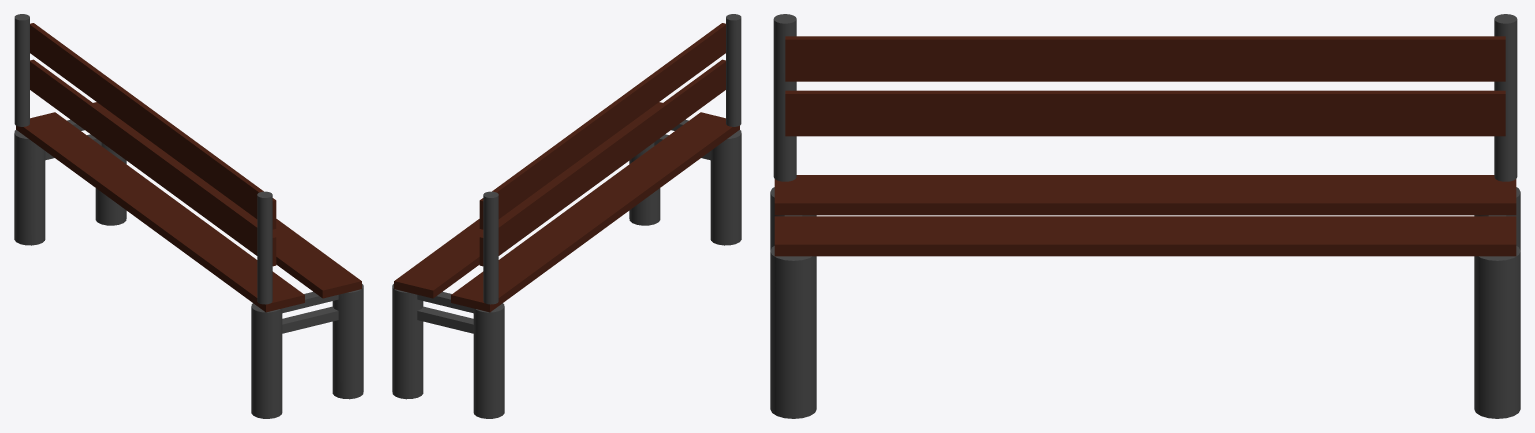
File: bench.glb
3 renders of one model, left to right at view 1: azimuth 30°, elevation 25°; view 2: azimuth 150°, elevation 25°; view 3: azimuth 270°, elevation 25°, orthographic. The views are drawn at different scales.
Parts seen in each view (by area): view 1: Cylinder; view 2: Cylinder; view 3: Cylinder.
Part boxes in pixels (bbox=[...]): Cylinder: bbox=[14, 14, 363, 418]; Cylinder: bbox=[392, 14, 741, 418]; Cylinder: bbox=[770, 14, 1520, 418].
Size of the model in its own units: 0.7986 by 1.56 by 3.23.
